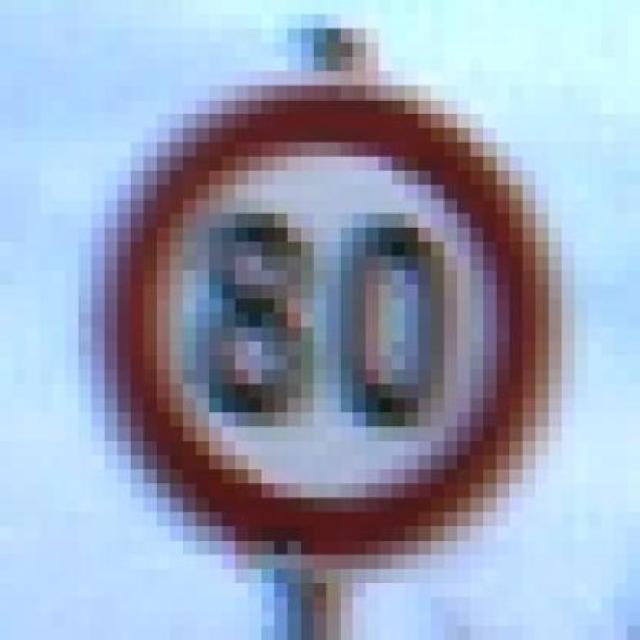forb_speed_over_80: (124, 91, 536, 554)
